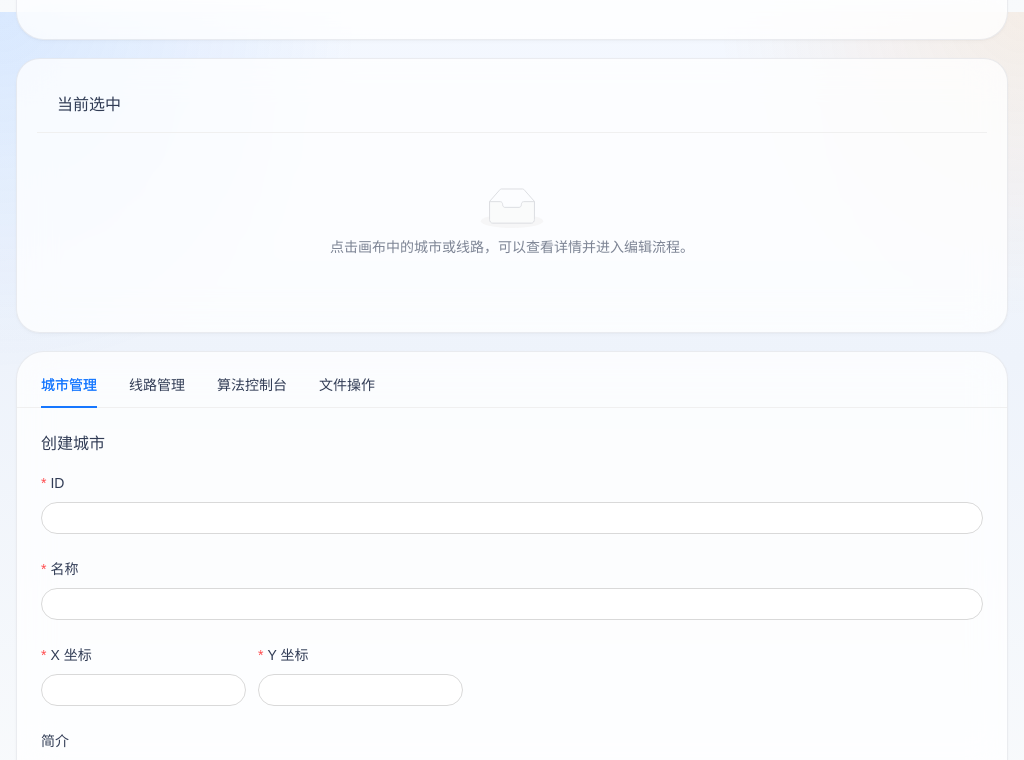
Test: WorkspacePage › loads an empty graph and keeps algorithm actions disabled
This screenshot has width=1024, height=760.
(page scrolled)
Click the tab "算法控制台".
click(252, 385)  # box top-left (217, 374), bottom-right (287, 396)
(page scrolled)
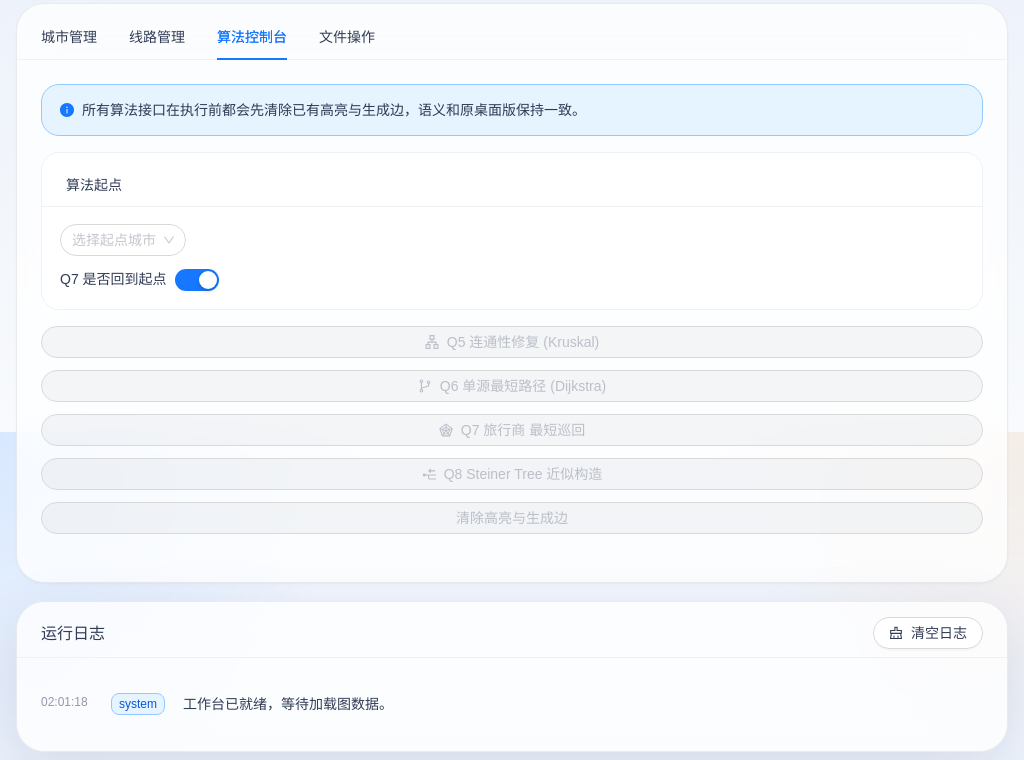
Check: the button "Q6 单源最短路径 (Dijkstra)" is disabled, box top-left (41, 370), bottom-right (983, 402)
Check: the button "Q7 旅行商 最短巡回" is disabled, box top-left (41, 414), bottom-right (983, 446)
